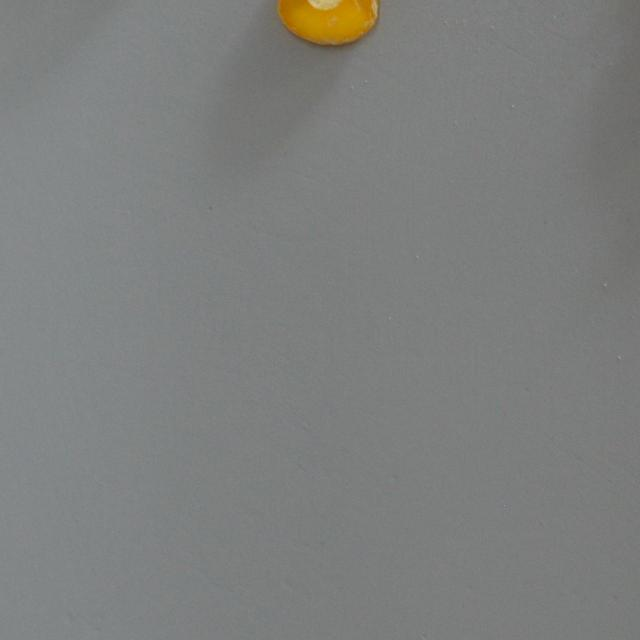pelicula: (276, 0, 380, 44)
